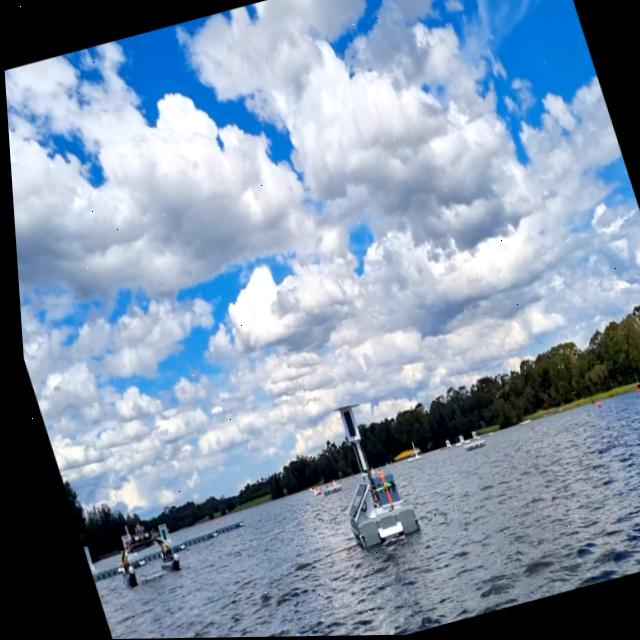led: (334, 408, 354, 442)
